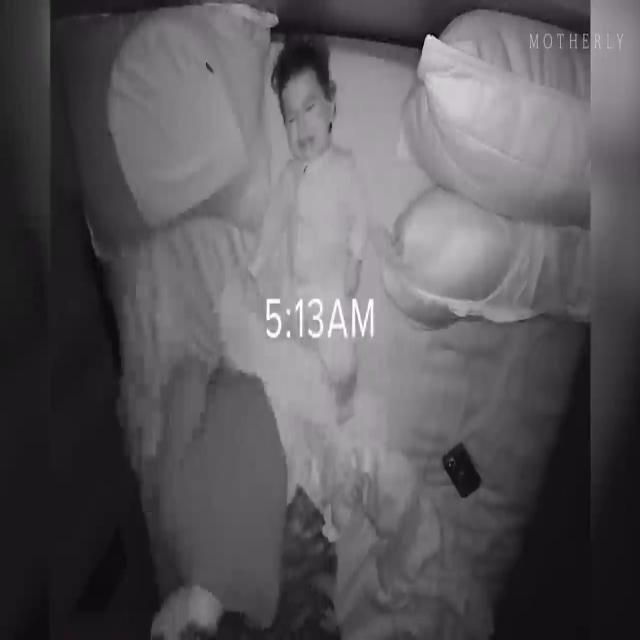baby: (250, 37, 365, 408)
